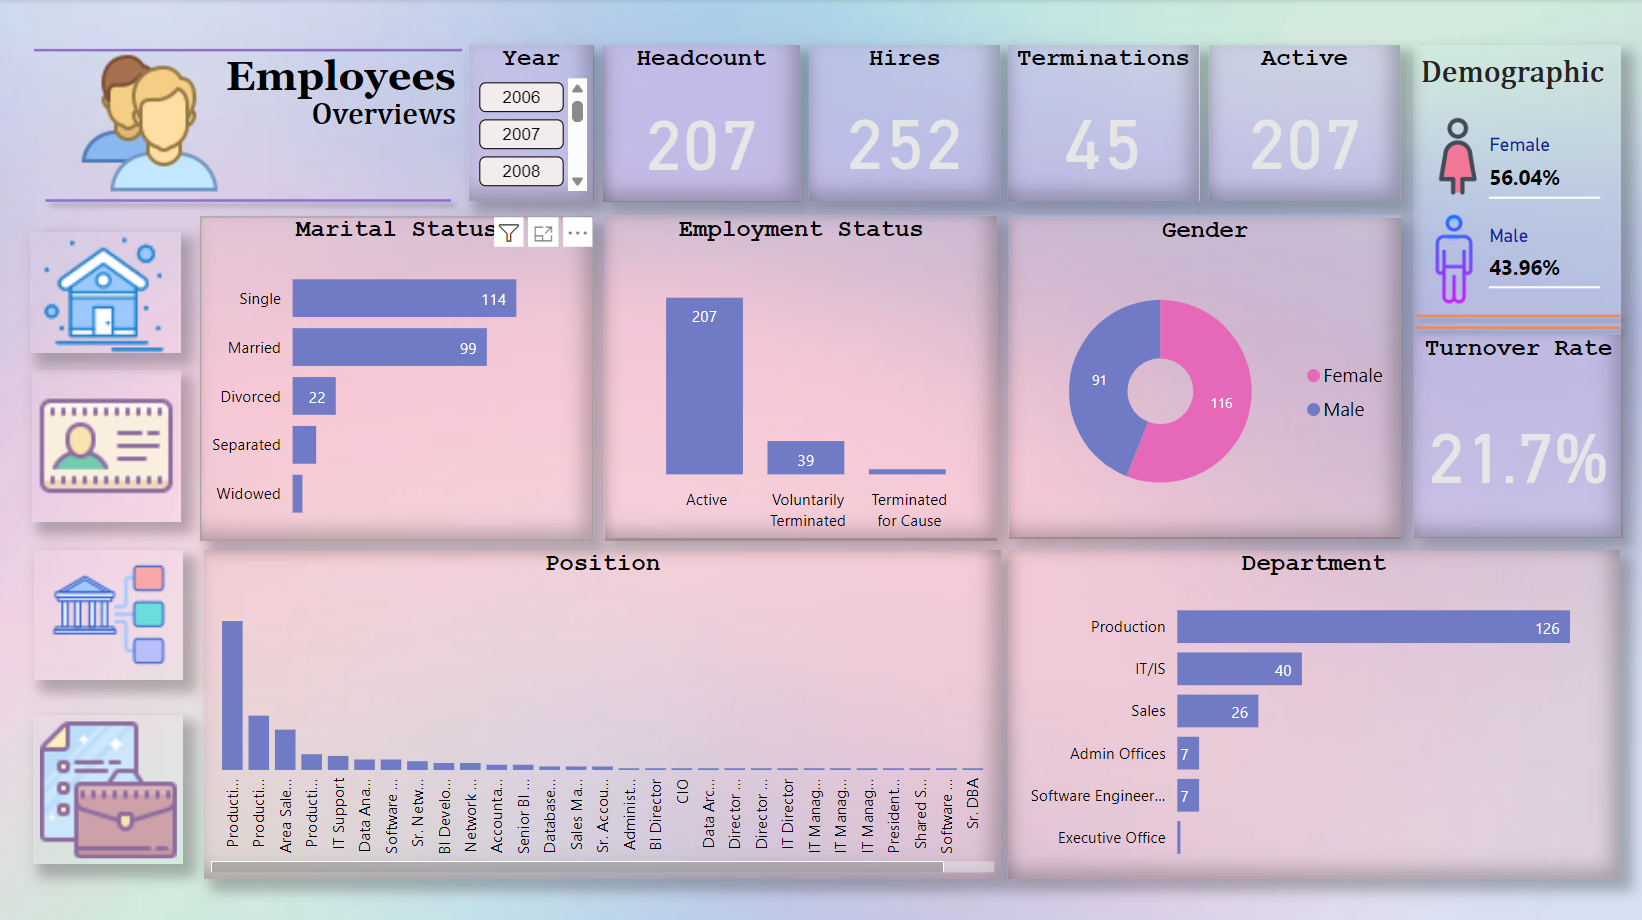

What the dashboard file says about the page in this screenshot:
{"tool":"powerbi","page":{"name":"EMPLOYEE OVERVIEW","canvas":[1280,720],"ordinal":1},"visuals":[{"type":"shape","box":[470.3,35.6,152.2,120.7],"z":0},{"type":"card","title":"Headcount","fields":{"Values":["calculation.Employee Headcount"]},"box":[469.4,36.1,153.5,121.9],"z":1000},{"type":"image","box":[0,36,233.6,120.8],"z":2000},{"type":"shape","box":[364.7,35.6,97.3,120.7],"z":3000},{"type":"shape","box":[628.6,36,149.9,120.8],"z":4000},{"type":"shape","box":[784.3,36,149.9,120.8],"z":5000},{"type":"shape","box":[940,36,149.9,120.8],"z":6000},{"type":"shape","box":[1099.2,36,161.5,382.3],"z":7000},{"type":"shape","box":[784.2,428.8,476.2,255],"z":8000},{"type":"shape","box":[159.1,428.8,619.5,255],"z":9000},{"type":"shape","box":[784.3,167.3,305.6,251],"z":10000},{"type":"shape","box":[470.6,168.5,305.6,251],"z":11000},{"type":"shape","box":[156.3,170,305.7,250.9],"z":12000},{"type":"textbox","box":[166.2,36,194,109.2],"z":13000},{"type":"image","box":[1081.8,156.3,98.7,93.2],"z":14000},{"type":"image","box":[1085.9,87.7,94.6,69.9],"z":15000},{"type":"textbox","box":[1099.6,39.8,170,49.4],"z":16000},{"type":"shape","box":[27.4,117.9,333.2,78.1],"z":17000},{"type":"shape","box":[27.4,0,333.2,79.5],"z":18000},{"type":"ChicletSlicer1448559807354","title":"Year","fields":{"Category":["Dates.Year"]},"box":[365.6,36.1,97,120.7],"z":19000},{"type":"card","title":"Hires","fields":{"Values":["calculation.Hires"]},"box":[629.6,36.1,148.9,120.7],"z":20000},{"type":"card","title":"Terminations","fields":{"Values":["calculation.TerminationCount"]},"box":[784.2,36.1,148.9,120.7],"z":21000},{"type":"card","title":"Active","fields":{"Values":["calculation.Active"]},"box":[941.1,36.1,148.9,120.7],"z":22000},{"type":"multiRowCard","title":"Turnover Rate","fields":{"Values":["HR_Data.Sex","calculation.Employee Headcount"]},"box":[1153,100.1,96,152.2],"z":23000},{"type":"shape","box":[1092.3,204.2,177.2,84.6],"z":24000},{"type":"shape","box":[1092.3,234.7,177.2,40.6],"z":25000},{"type":"card","title":"Turnover Rate","fields":{"Values":["calculation.TurnOverRate"]},"box":[1100.2,261.8,162.5,158],"z":26000},{"type":"donutChart","title":"Gender","fields":{"Category":["HR_Data.Sex"],"Y":["calculation.Employee Headcount"]},"box":[785.3,170.4,304.7,249.4],"z":27000},{"type":"columnChart","title":"Employment Status","fields":{"Category":["HR_Data.EmploymentStatus"],"Y":["CountNonNull(HR_Data.EmploymentStatus)"]},"box":[471.7,169.3,304.7,251.6],"z":28000},{"type":"barChart","title":"Marital Status","fields":{"Category":["HR_Data.MaritalDesc"],"Y":["CountNonNull(HR_Data.MaritalDesc)"]},"box":[156.8,169.3,305.8,251.6],"z":29000},{"type":"barChart","title":"Department","fields":{"Category":["Department.DepartmentName"],"Y":["calculation.Employee Headcount"]},"box":[784.2,428.8,476.2,255],"z":30000},{"type":"columnChart","title":"Position","fields":{"Y":["calculation.Employee Headcount"],"Category":["Position.Positon Name"]},"box":[159.1,428.8,619.5,255],"z":31000},{"type":"image","box":[7,169.6,149.9,119.7],"z":32000},{"type":"actionButton","box":[24.7,181,116.5,94.6],"z":33000},{"type":"image","box":[24.8,288.9,116.2,117.3],"z":34000},{"type":"image","box":[27.1,428.8,116.2,100.4],"z":35000},{"type":"image","box":[26.3,556.7,116.8,115.8],"z":35001}]}

Visuals, with their boxes in screenshot pixels (x1, y1, x2, y2), scaled from the page's 1280x720 canvas onto the 1642x920 screenshot:
shape: crop(603, 45, 799, 200)
"Headcount" card: crop(602, 46, 799, 202)
image: crop(0, 46, 300, 200)
shape: crop(468, 45, 593, 200)
shape: crop(806, 46, 999, 200)
shape: crop(1006, 46, 1198, 200)
shape: crop(1206, 46, 1398, 200)
shape: crop(1410, 46, 1617, 534)
shape: crop(1006, 548, 1617, 874)
shape: crop(204, 548, 999, 874)
shape: crop(1006, 214, 1398, 534)
shape: crop(604, 215, 996, 536)
shape: crop(201, 217, 593, 538)
textbox: crop(213, 46, 462, 186)
image: crop(1388, 200, 1514, 319)
image: crop(1393, 112, 1514, 201)
textbox: crop(1411, 51, 1629, 114)
shape: crop(35, 151, 463, 250)
shape: crop(35, 0, 463, 102)
"Year" ChicletSlicer1448559807354: crop(469, 46, 593, 200)
"Hires" card: crop(808, 46, 999, 200)
"Terminations" card: crop(1006, 46, 1197, 200)
"Active" card: crop(1207, 46, 1398, 200)
"Turnover Rate" multiRowCard: crop(1479, 128, 1602, 322)
shape: crop(1401, 261, 1629, 369)
shape: crop(1401, 300, 1629, 352)
"Turnover Rate" card: crop(1411, 335, 1620, 536)
"Gender" donutChart: crop(1007, 218, 1398, 536)
"Employment Status" columnChart: crop(605, 216, 996, 538)
"Marital Status" barChart: crop(201, 216, 593, 538)
"Department" barChart: crop(1006, 548, 1617, 874)
"Position" columnChart: crop(204, 548, 999, 874)
image: crop(9, 217, 201, 370)
actionButton: crop(32, 231, 181, 352)
image: crop(32, 369, 181, 519)
image: crop(35, 548, 184, 676)
image: crop(34, 711, 184, 859)
